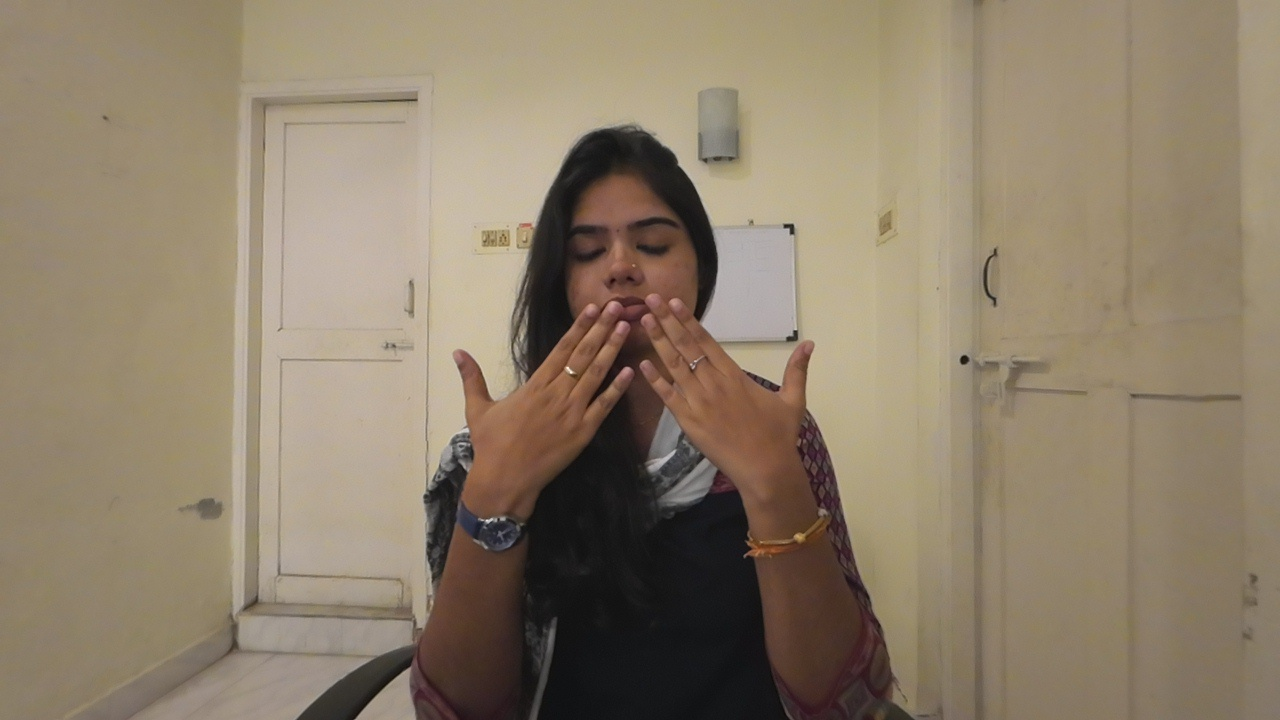Thank you: (440, 295, 826, 484)
